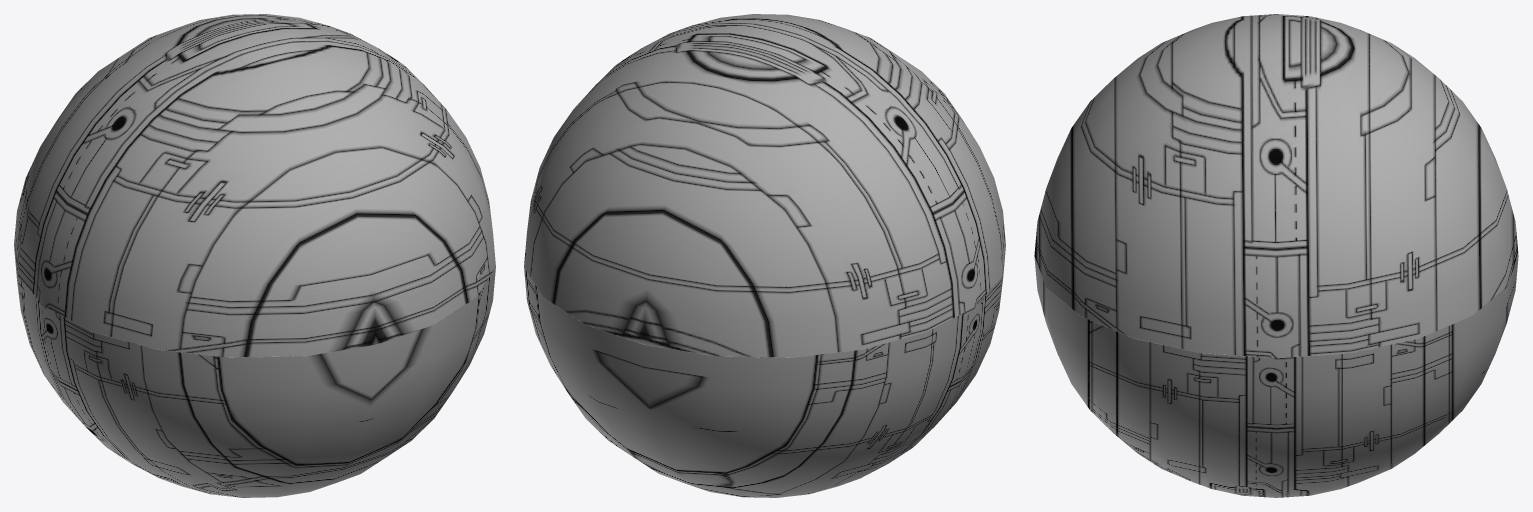
File: baseModel.fbx
The picture shows the model from 3 angles, left to right: view 1: azimuth 30°, elevation 25°; view 2: azimuth 150°, elevation 25°; view 3: azimuth 270°, elevation 25°; orthographic projection.
Visible parts, largest first — view 1: pasted__pSphere5, pasted__pSphere4; view 2: pasted__pSphere5, pasted__pSphere4; view 3: pasted__pSphere5, pasted__pSphere4.
Part boxes in pixels (x1,y1,x2,y2): pasted__pSphere5: (14,14,495,357); pasted__pSphere4: (14,249,495,497); pasted__pSphere5: (524,14,1005,357); pasted__pSphere4: (524,249,1005,497); pasted__pSphere5: (1034,14,1518,358); pasted__pSphere4: (1034,256,1518,497).
Size of the model in its own units: 35.42 by 35.43 by 35.42.
Materials: 5 (2 with a texture image).
